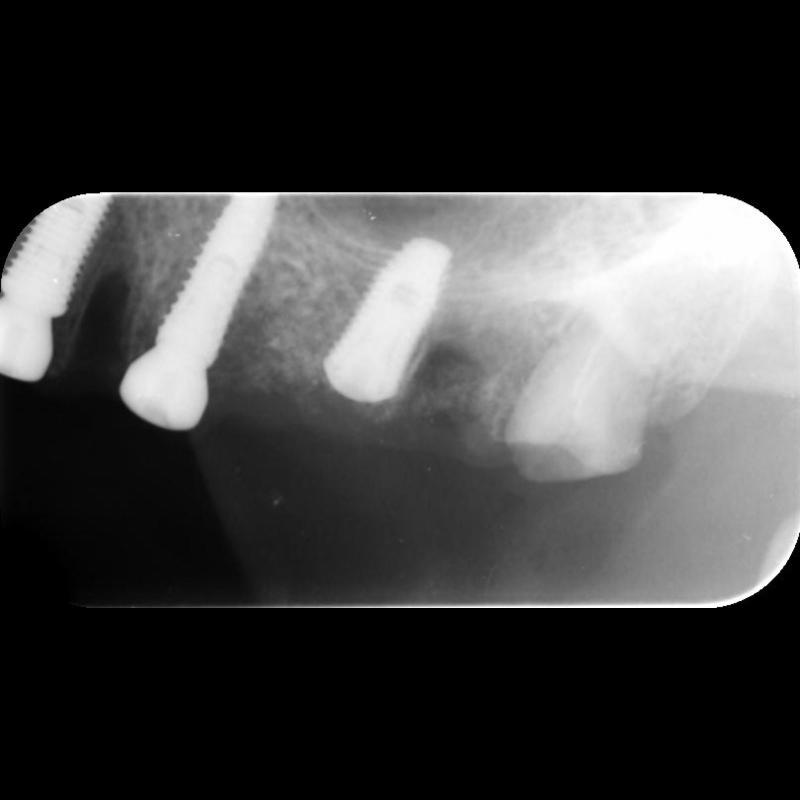Dentium: (319, 234, 453, 410), (158, 194, 280, 364)
